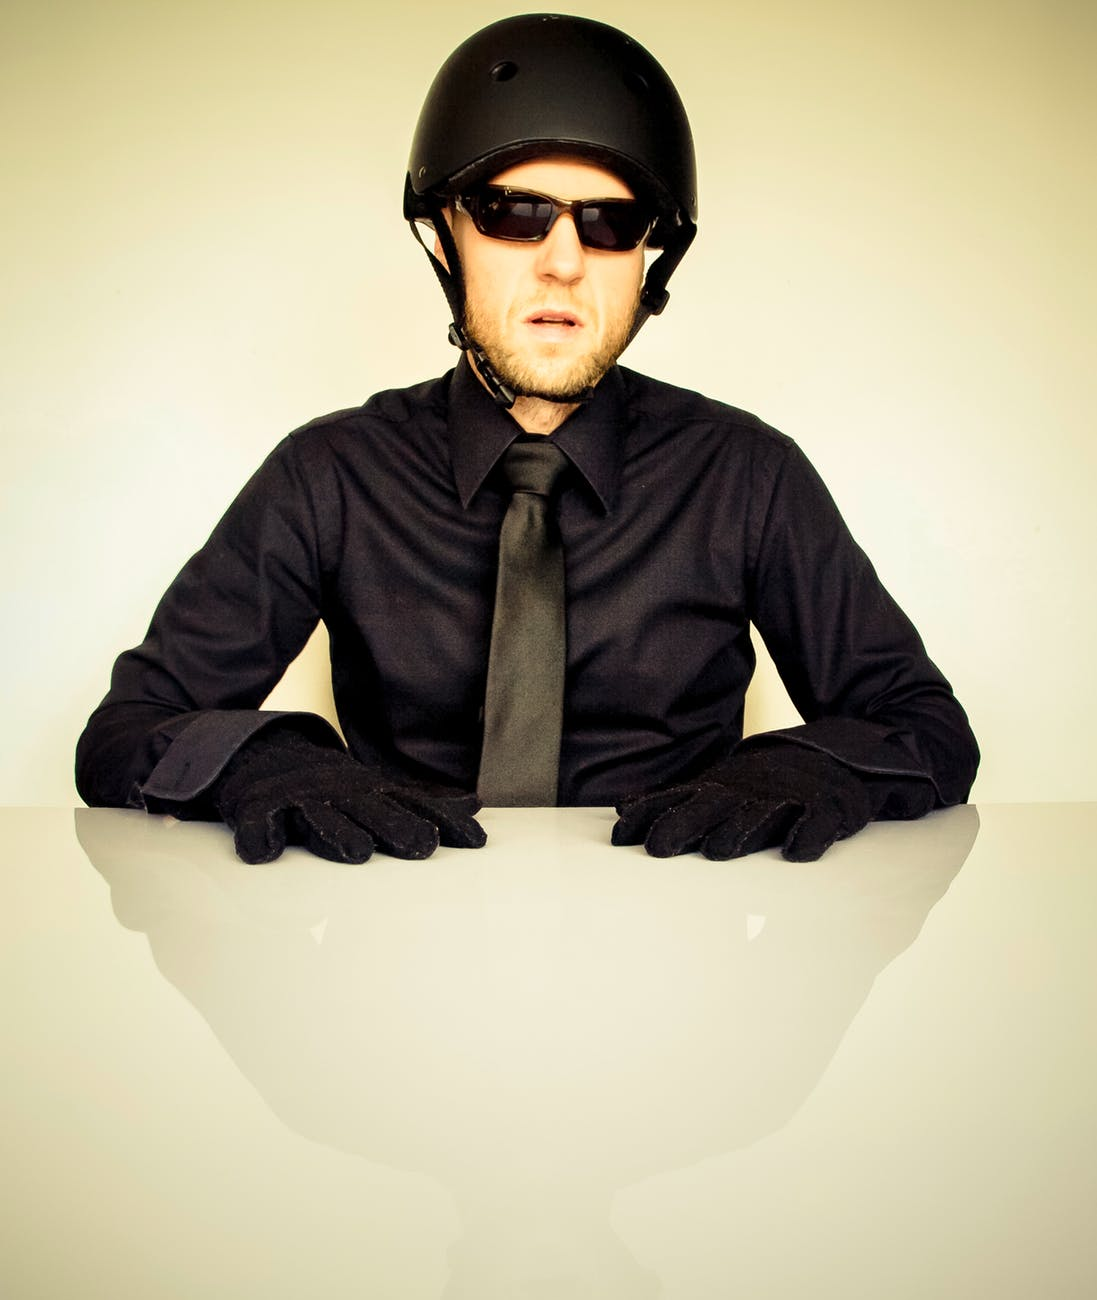helmet: (399, 21, 713, 215)
